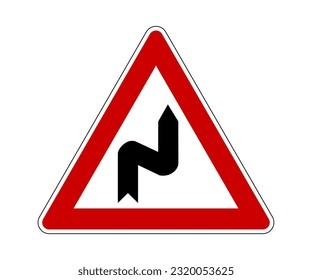Right Reverse Bend: (28, 16, 278, 242)
